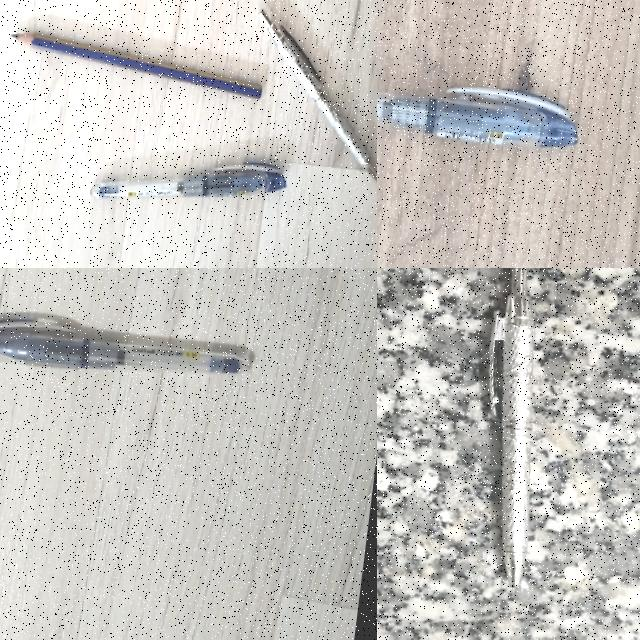pen: (85, 142, 286, 220), (0, 314, 250, 373), (377, 87, 577, 148)
pencil: (10, 30, 261, 96)
signature pen: (243, 9, 377, 178), (490, 268, 534, 587)
